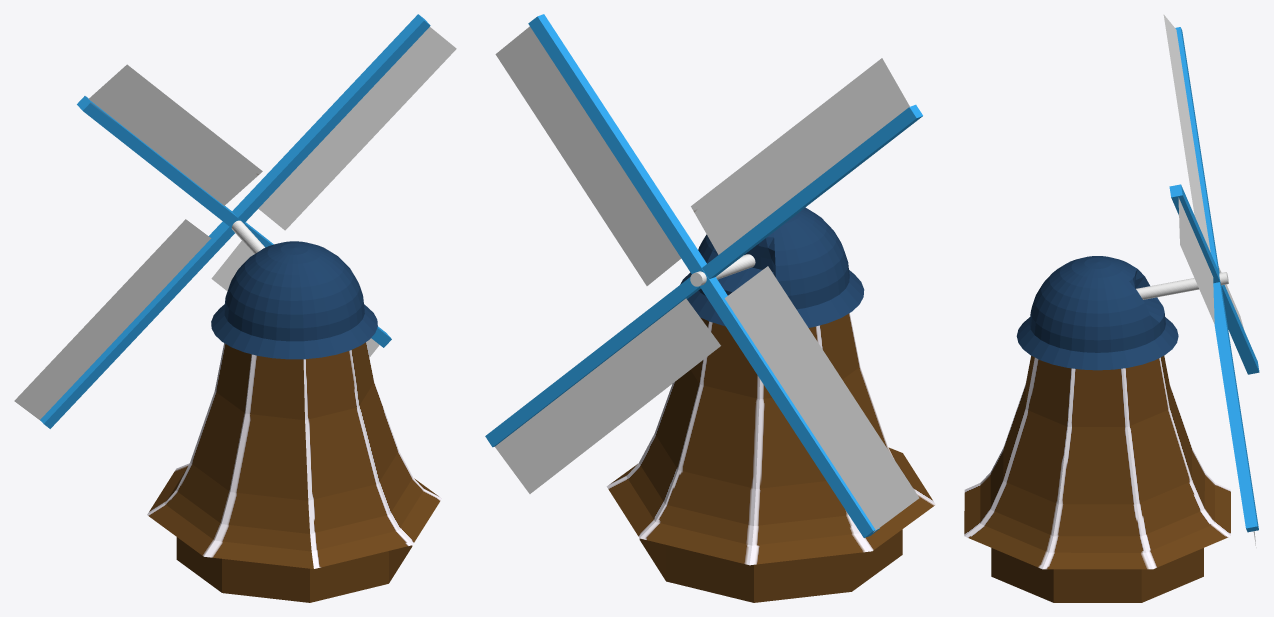
The model's file is windmill.obj.
3 renders of one model, left to right at view 1: azimuth 30°, elevation 25°; view 2: azimuth 150°, elevation 25°; view 3: azimuth 270°, elevation 25°, orthographic. The views are drawn at different scales.
Visible parts, largest first — view 1: 立方体; view 2: 立方体; view 3: 立方体.
Boxes of the visible parts, x1,y1,x2,y2 form: 立方体: (14,14,456,602); 立方体: (485,14,935,602); 立方体: (964,14,1259,602).
Bounding box in the file's own units: 13.94 × 16.07 × 8.94.
Materials: 1 (1 with a texture image).
